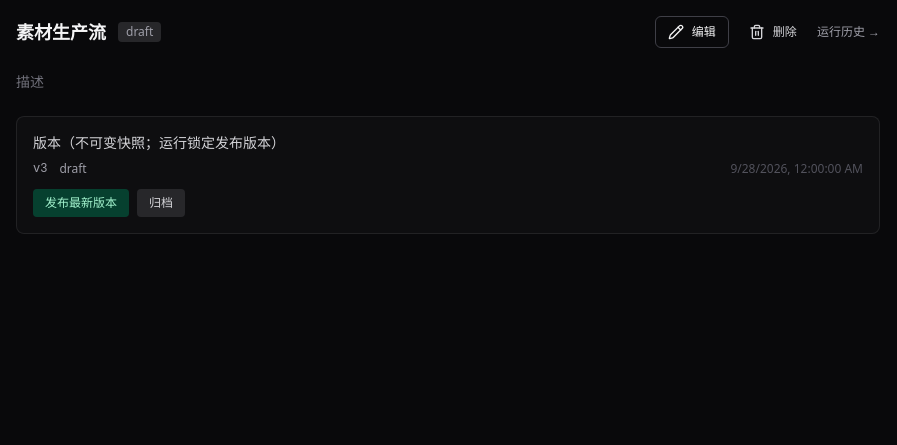
Test: 工作流详情页：状态驱动的操作按钮 › 点击发布：POST publish 并用返回的最新详情刷新状态与按钮
Check: the heading "素材生产流" is shown, box [16, 18, 106, 46]
Click the button "发布最新版本": coordinates (81, 203) [33, 189, 129, 217]
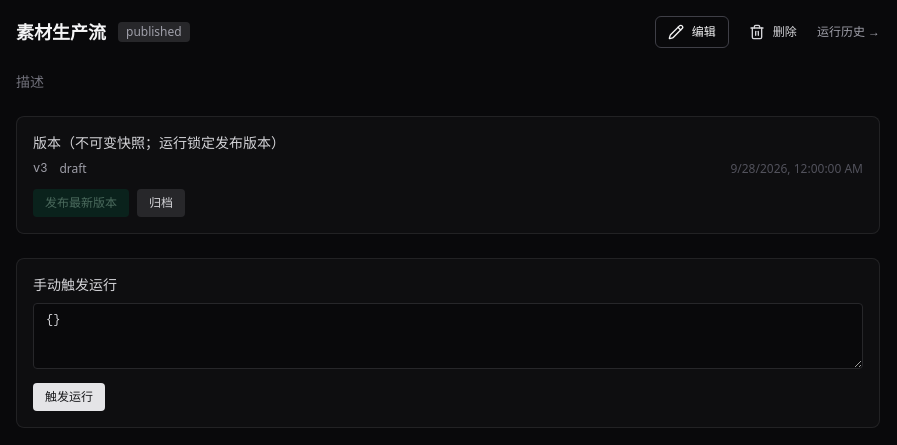
Check: the button "发布最新版本" is disabled, box [33, 189, 129, 217]
Check: the text "published" is shown, box [118, 22, 190, 42]
